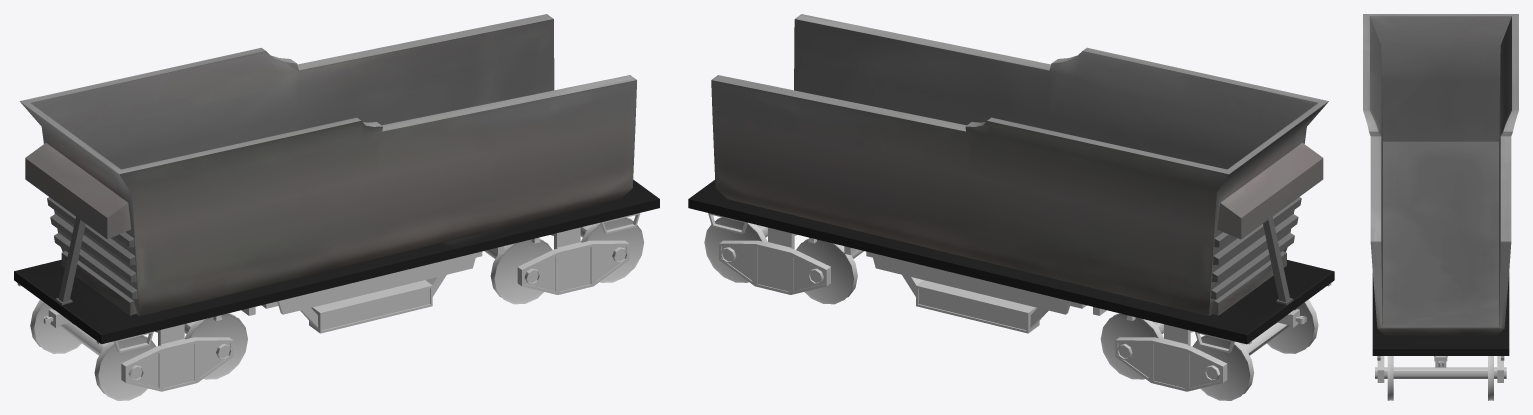
File: VagaoCarvao.fbx
3 renders of one model, left to right at view 1: azimuth 30°, elevation 25°; view 2: azimuth 150°, elevation 25°; view 3: azimuth 270°, elevation 25°, orthographic. The views are drawn at different scales.
Parts seen in each view (by area): view 1: VagaoCarvao; view 2: VagaoCarvao; view 3: VagaoCarvao.
Part boxes in pixels (x1=…): VagaoCarvao: x1=14, y1=14, x2=659, y2=400; VagaoCarvao: x1=688, y1=14, x2=1334, y2=400; VagaoCarvao: x1=1363, y1=14, x2=1518, y2=400.
Bounding box in the file's own units: 1365 × 544 × 403.
